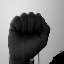a: (7, 11, 51, 61)
